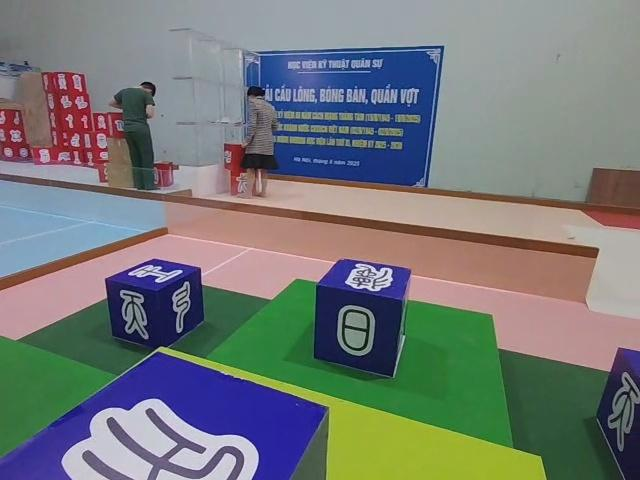R2 Fake Blue: (0, 349, 332, 480), (313, 260, 412, 381), (102, 261, 204, 352), (596, 350, 640, 480)
